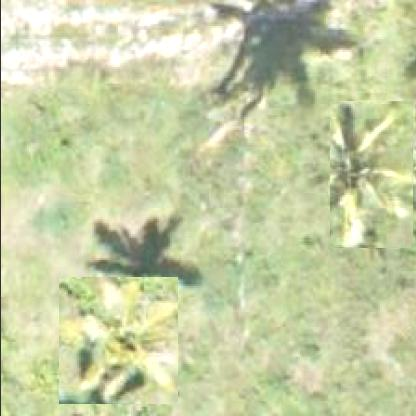coconut tree: (58, 276, 178, 404), (329, 100, 413, 248)
